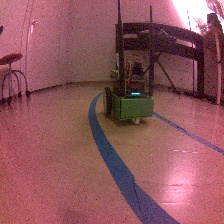rob: (102, 61, 154, 125)
